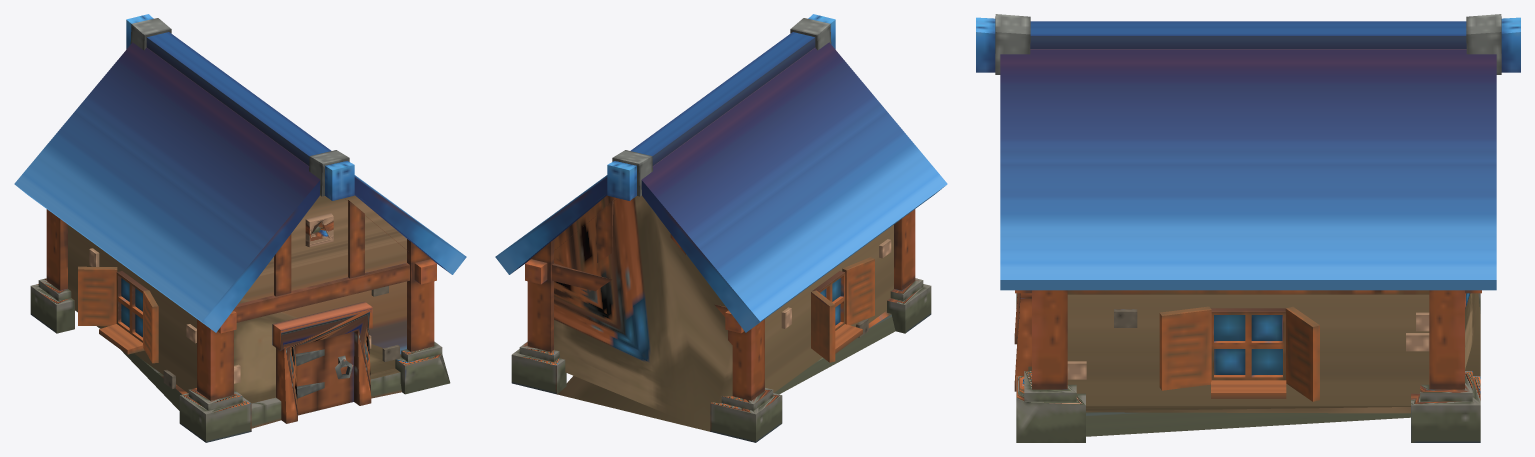
3 views of the same model, side by side, from view 1: azimuth 30°, elevation 25°; view 2: azimuth 150°, elevation 25°; view 3: azimuth 270°, elevation 25° (orthographic). The views are drawn at different scales.
Visible parts, largest first — view 1: House.040_Cube.045; view 2: House.040_Cube.045; view 3: House.040_Cube.045.
Part boxes in pixels (left/top/right/bottom): House.040_Cube.045: left=14, top=14, right=466, bottom=442; House.040_Cube.045: left=495, top=14, right=947, bottom=442; House.040_Cube.045: left=976, top=14, right=1520, bottom=442.
Size of the model in its own units: 797 by 712 by 1030.
